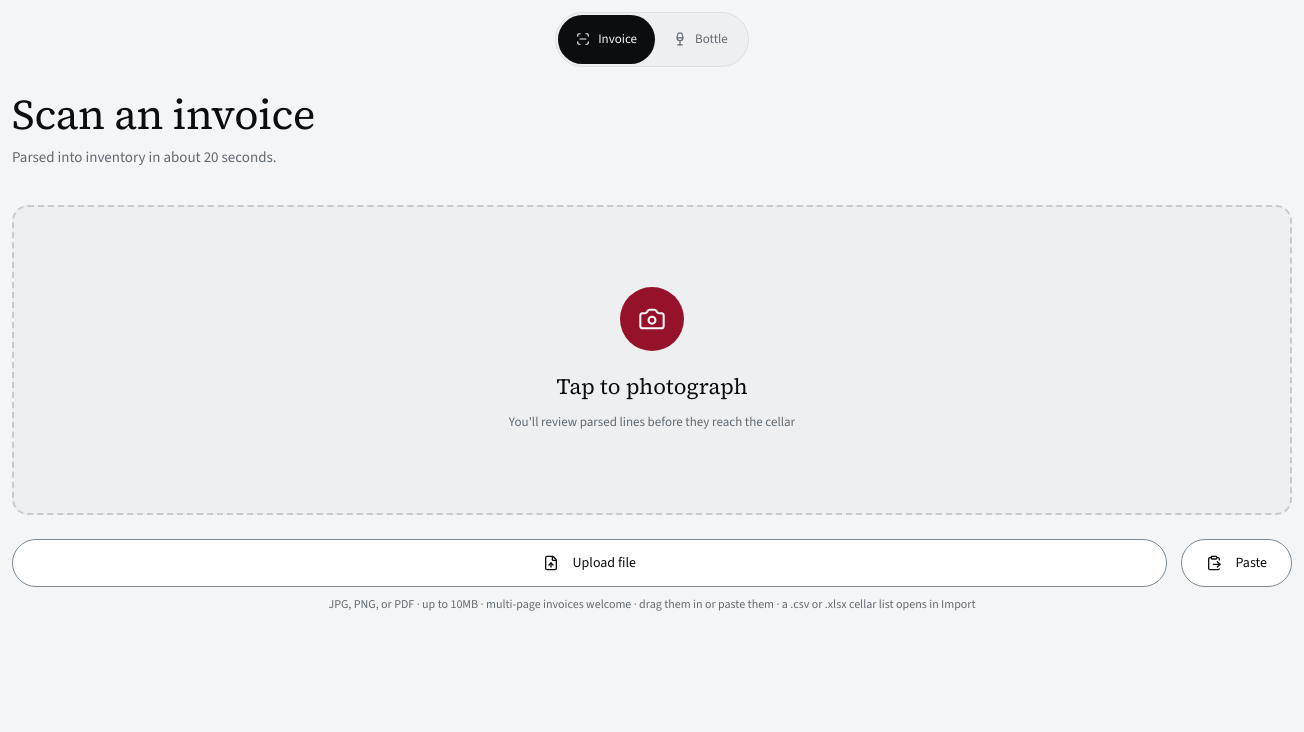
Scenario: ReadyView — dropping and pasting reach the same route as the picker › says so rather than failing silently when the clipboard holds no image
The image size is (1304, 732).
Click the button "Paste": click(1236, 563) [1180,539,1292,587]
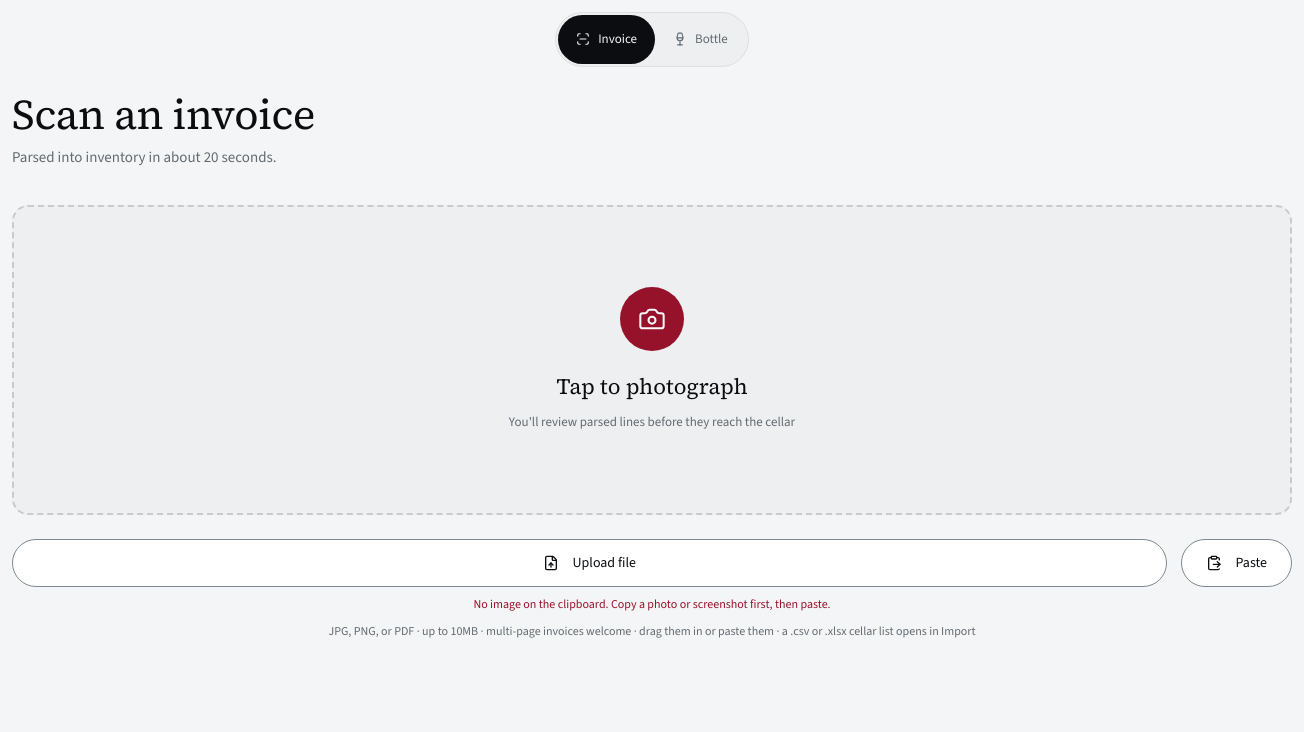
Expected: the text "No image on the clipboard" is shown, [473,596,831,612]
